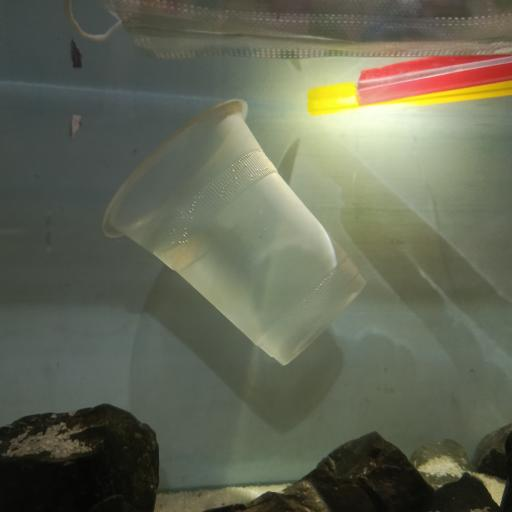mask: (69, 2, 512, 61)
plastic_cup: (97, 94, 369, 370)
plastic_straw: (358, 53, 512, 106), (304, 82, 512, 118)
